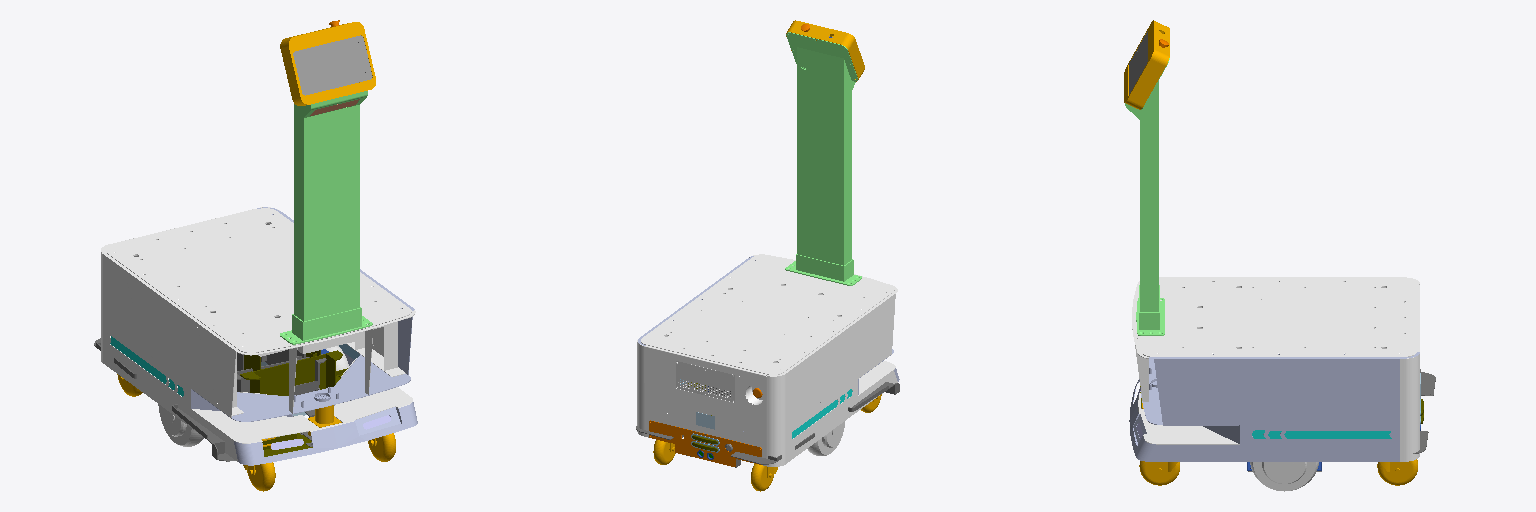
--- What the picture shows (computed from the rendered views, not written in the file) ---
3 views of the same robot in one strip: view 1: azimuth 30°, elevation 25°; view 2: azimuth 150°, elevation 25°; view 3: azimuth 270°, elevation 25° (orthographic).
Model quadruped_robot with 2 links and 1 joints (1 fixed), rooted at world, posed all joints at 0.
Links seen in each view (by area): view 1: sujiaojian; view 2: sujiaojian; view 3: sujiaojian.
Link boxes in pixels (box(x1,y1,x2,y2)): sujiaojian: box(94, 20, 417, 491); sujiaojian: box(636, 20, 899, 491); sujiaojian: box(1124, 20, 1435, 491).
Bounding box of the posed robot: 0.5017 × 0.7599 × 1.14 m (x, y, z).
70 mesh visuals loaded from 50 distinct referenced files (48 binary STL); not drawn: 3 (reference not matched to a file when rendering).

URDF robot description (quadruped_robot):
<?xml version="1.0"?>
<robot name="quadruped_robot">
<link name="world"/>
<joint name="world_to_sujiaojian" type="fixed">
  <parent link="world"/>
  <child link="sujiaojian"/>
  <origin xyz="0 0 -0.4" rpy="0.349066 0.174533  0"/>
</joint>
<link name="sujiaojian">
<visual>
<origin xyz="0.075992826552716899458 -0.12304598517526418866 0.75838709638582291195" rpy="-0.3540148965055689434 -0.16390885824145529082 0.060234426101678575916" />
<geometry>
<mesh filename="package://quadruped_description/quadruped/sujiaojian.stl"/>
</geometry>
<material name="sujiaojian_material">
<color rgba="0.91764705882352937127 0.91764705882352937127 0.91764705882352937127 1.0"/>
</material>
</visual>
<collision>
<origin xyz="0.075992826552716899458 -0.12304598517526418866 0.75838709638582291195" rpy="-0.3540148965055689434 -0.16390885824145529082 0.060234426101678575916" />
<geometry>
<mesh filename="package://quadruped_description/quadruped/sujiaojian.stl"/>
</geometry>
</collision>
<visual>
<origin xyz="0.11089667216888310364 -0.28192709194884885138 0.60556158409526428255" rpy="-1.7453292519943293115 0.34906585039886639521 1.570796326794896336" />
<geometry>
<mesh filename="package://quadruped_description/quadruped/_800.stl"/>
</geometry>
<material name="_800_material">
<color rgba="0.79215686274509800047 0.81960784313725487671 0.93333333333333334814 1.0"/>
</material>
</visual>
<collision>
<origin xyz="0.11089667216888310364 -0.28192709194884885138 0.60556158409526428255" rpy="-1.7453292519943293115 0.34906585039886639521 1.570796326794896336" />
<geometry>
<mesh filename="package://quadruped_description/quadruped/_800.stl"/>
</geometry>
</collision>
<visual>
<origin xyz="0.11089667216888310364 -0.28192709194884885138 0.60556158409526428255" rpy="-1.7453292519943293115 0.34906585039886639521 1.570796326794896336" />
<geometry>
<mesh filename="package://quadruped_description/quadruped/_1900.stl"/>
</geometry>
<material name="_1900_material">
<color rgba="1 1 1 1.0"/>
</material>
</visual>
<collision>
<origin xyz="0.11089667216888310364 -0.28192709194884885138 0.60556158409526428255" rpy="-1.7453292519943293115 0.34906585039886639521 1.570796326794896336" />
<geometry>
<mesh filename="package://quadruped_description/quadruped/_1900.stl"/>
</geometry>
</collision>
<visual>
<origin xyz="0.045475282385517123984 -0.28587248451122720949 0.59472170711924576825" rpy="-1.7453292519943293115 0.34906585039886639521 1.570796326794896336" />
<geometry>
<mesh filename="package://quadruped_description/quadruped/_1200.stl"/>
</geometry>
<material name="_1200_material">
<color rgba="1 1 1 1.0"/>
</material>
</visual>
<collision>
<origin xyz="0.045475282385517123984 -0.28587248451122720949 0.59472170711924576825" rpy="-1.7453292519943293115 0.34906585039886639521 1.570796326794896336" />
<geometry>
<mesh filename="package://quadruped_description/quadruped/_1200.stl"/>
</geometry>
</collision>
<visual>
<origin xyz="0.11089667216888310364 -0.28192709194884885138 0.60556158409526428255" rpy="-1.7453292519943293115 0.34906585039886639521 1.570796326794896336" />
<geometry>
<mesh filename="package://quadruped_description/quadruped/_2300.stl"/>
</geometry>
<material name="_2300_material">
<color rgba="1 1 1 1.0"/>
</material>
</visual>
<collision>
<origin xyz="0.11089667216888310364 -0.28192709194884885138 0.60556158409526428255" rpy="-1.7453292519943293115 0.34906585039886639521 1.570796326794896336" />
<geometry>
<mesh filename="package://quadruped_description/quadruped/_2300.stl"/>
</geometry>
</collision>
<visual>
<origin xyz="0.11089667216888161871 0.029299104055440446798 0.49228451262579309144" rpy="-1.3962634015954649147 -0.34906585039891668831 -1.5707963267948938935" />
<geometry>
<mesh filename="package://quadruped_description/quadruped/_900.stl"/>
</geometry>
<material name="_900_material">
<color rgba="1 1 1 1.0"/>
</material>
</visual>
<collision>
<origin xyz="0.11089667216888161871 0.029299104055440446798 0.49228451262579309144" rpy="-1.3962634015954649147 -0.34906585039891668831 -1.5707963267948938935" />
<geometry>
<mesh filename="package://quadruped_description/quadruped/_900.stl"/>
</geometry>
</collision>
<visual>
<origin xyz="0.11089667216888310364 -0.28192709194884885138 0.60556158409526428255" rpy="-1.7453292519943293115 0.34906585039886639521 1.570796326794896336" />
<geometry>
<mesh filename="package://quadruped_description/quadruped/_1400.stl"/>
</geometry>
<material name="_1400_material">
<color rgba="1 1 1 1.0"/>
</material>
</visual>
<collision>
<origin xyz="0.11089667216888310364 -0.28192709194884885138 0.60556158409526428255" rpy="-1.7453292519943293115 0.34906585039886639521 1.570796326794896336" />
<geometry>
<mesh filename="package://quadruped_description/quadruped/_1400.stl"/>
</geometry>
</collision>
<visual>
<origin xyz="0.11089667216888310364 -0.28192709194884885138 0.60556158409526428255" rpy="-1.7453292519943293115 0.34906585039886639521 1.570796326794896336" />
<geometry>
<mesh filename="package://quadruped_description/quadruped/_200.stl"/>
</geometry>
<material name="_200_material">
<color rgba="0.79215686274509800047 0.81960784313725487671 0.93333333333333334814 1.0"/>
</material>
</visual>
<collision>
<origin xyz="0.11089667216888310364 -0.28192709194884885138 0.60556158409526428255" rpy="-1.7453292519943293115 0.34906585039886639521 1.570796326794896336" />
<geometry>
<mesh filename="package://quadruped_description/quadruped/_200.stl"/>
</geometry>
</collision>
<visual>
<origin xyz="0.11089667216888310364 -0.28192709194884885138 0.60556158409526428255" rpy="-1.7453292519943293115 0.34906585039886639521 1.570796326794896336" />
<geometry>
<mesh filename="package://quadruped_description/quadruped/_500.stl"/>
</geometry>
<material name="_500_material">
<color rgba="1 1 1 1.0"/>
</material>
</visual>
<collision>
<origin xyz="0.11089667216888310364 -0.28192709194884885138 0.60556158409526428255" rpy="-1.7453292519943293115 0.34906585039886639521 1.570796326794896336" />
<geometry>
<mesh filename="package://quadruped_description/quadruped/500.stl"/>
</geometry>
</collision>
<visual>
<origin xyz="0.11089667216888310364 -0.28192709194884885138 0.60556158409526428255" rpy="-1.7453292519943293115 0.34906585039886639521 1.570796326794896336" />
<geometry>
<mesh filename="package://quadruped_description/quadruped/_400.stl"/>
</geometry>
<material name="_400_material">
<color rgba="0.79215686274509800047 0.81960784313725487671 0.93333333333333334814 1.0"/>
</material>
</visual>
<collision>
<origin xyz="0.11089667216888310364 -0.28192709194884885138 0.60556158409526428255" rpy="-1.7453292519943293115 0.34906585039886639521 1.570796326794896336" />
<geometry>
<mesh filename="package://quadruped_description/quadruped/_400.stl"/>
</geometry>
</collision>
<visual>
<origin xyz="0.11089667216888310364 -0.28192709194884885138 0.60556158409526428255" rpy="-1.7453292519943293115 0.34906585039886639521 1.570796326794896336" />
<geometry>
<mesh filename="package://quadruped_description/quadruped/_100.stl"/>
</geometry>
<material name="_100_material">
<color rgba="1 1 1 1.0"/>
</material>
</visual>
<collision>
<origin xyz="0.11089667216888310364 -0.28192709194884885138 0.60556158409526428255" rpy="-1.7453292519943293115 0.34906585039886639521 1.570796326794896336" />
<geometry>
<mesh filename="package://quadruped_description/quadruped/_100.stl"/>
</geometry>
</collision>
<visual>
<origin xyz="0.11089667216888310364 -0.28192709194884885138 0.60556158409526428255" rpy="-1.7453292519943293115 0.34906585039886639521 1.570796326794896336" />
<geometry>
<mesh filename="package://quadruped_description/quadruped/_900.stl"/>
</geometry>
<material name="_900_material">
<color rgba="1 1 1 1.0"/>
</material>
</visual>
<collision>
<origin xyz="0.11089667216888310364 -0.28192709194884885138 0.60556158409526428255" rpy="-1.7453292519943293115 0.34906585039886639521 1.570796326794896336" />
<geometry>
<mesh filename="package://quadruped_description/quadruped/_900.stl"/>
</geometry>
</collision>
<visual>
<origin xyz="0.11089667216888310364 -0.28192709194884885138 0.60556158409526428255" rpy="-1.7453292519943293115 0.34906585039886639521 1.570796326794896336" />
<geometry>
<mesh filename="package://quadruped_description/quadruped/_700.stl"/>
</geometry>
<material name="_1700_material">
<color rgba="0.79215686274509800047 0.81960784313725487671 0.93333333333333334814 1.0"/>
</material>
</visual>
<collision>
<origin xyz="0.11089667216888310364 -0.28192709194884885138 0.60556158409526428255" rpy="-1.7453292519943293115 0.34906585039886639521 1.570796326794896336" />
<geometry>
<mesh filename="package://quadruped_description/quadruped/_1700.stl"/>
</geometry>
</collision>
<visual>
<origin xyz="0.11089667216888310364 -0.28192709194884885138 0.60556158409526428255" rpy="-1.7453292519943293115 0.34906585039886639521 1.570796326794896336" />
<geometry>
<mesh filename="package://quadruped_description/quadruped/_1700.stl"/>
</geometry>
<material name="_1700_material">
<color rgba="0.79215686274509800047 0.81960784313725487671 0.93333333333333334814 1.0"/>
</material>
</visual>
<collision>
<origin xyz="0.11089667216888310364 -0.28192709194884885138 0.60556158409526428255" rpy="-1.7453292519943293115 0.34906585039886639521 1.570796326794896336" />
<geometry>
<mesh filename="package://quadruped_description/quadruped/_1700.stl"/>
</geometry>
</collision>
<visual>
<origin xyz="0.11089667216888310364 -0.28192709194884885138 0.60556158409526428255" rpy="-1.7453292519943293115 0.34906585039886639521 1.570796326794896336" />
<geometry>
<mesh filename="package://quadruped_description/quadruped/_2400.stl"/>
</geometry>
<material name="_2400_material">
<color rgba="1 1 1 1.0"/>
</material>
</visual>
<collision>
<origin xyz="0.11089667216888310364 -0.28192709194884885138 0.60556158409526428255" rpy="-1.7453292519943293115 0.34906585039886639521 1.570796326794896336" />
<geometry>
<mesh filename="package://quadruped_description/quadruped/_2400.stl"/>
</geometry>
</collision>
<visual>
<origin xyz="0.11089667216888310364 -0.28192709194884885138 0.60556158409526428255" rpy="-1.7453292519943293115 0.34906585039886639521 1.570796326794896336" />
<geometry>
<mesh filename="package://quadruped_description/quadruped/_600.stl"/>
</geometry>
<material name="_600_material">
<color rgba="1 1 1 1.0"/>
</material>
</visual>
<collision>
<origin xyz="0.11089667216888310364 -0.28192709194884885138 0.60556158409526428255" rpy="-1.7453292519943293115 0.34906585039886639521 1.570796326794896336" />
<geometry>
<mesh filename="package://quadruped_description/quadruped/_600.stl"/>
</geometry>
</collision>
<visual>
<origin xyz="0.11089667216888310364 -0.28192709194884885138 0.60556158409526428255" rpy="-1.7453292519943293115 0.34906585039886639521 1.570796326794896336" />
<geometry>
<mesh filename="package://quadruped_description/quadruped/_1600.stl"/>
</geometry>
<material name="_1600_material">
<color rgba="1 1 1 1.0"/>
</material>
</visual>
<collision>
<origin xyz="0.11089667216888310364 -0.28192709194884885138 0.60556158409526428255" rpy="-1.7453292519943293115 0.34906585039886639521 1.570796326794896336" />
<geometry>
<mesh filename="package://quadruped_description/quadruped/_1600.stl"/>
</geometry>
</collision>
<visual>
<origin xyz="0.11089667216888282608 -0.59315328795314092858 0.71883865556472748004" rpy="-1.7453292519943293115 0.34906585039886639521 1.570796326794896336" />
<geometry>
<mesh filename="package://quadruped_description/quadruped/_900.stl"/>
</geometry>
<material name="_900_material">
<color rgba="1 1 1 1.0"/>
</material>
</visual>
<collision>
<origin xyz="0.11089667216888282608 -0.59315328795314092858 0.71883865556472748004" rpy="-1.7453292519943293115 0.34906585039886639521 1.570796326794896336" />
<geometry>
<mesh filename="package://quadruped_description/quadruped/_900.stl"/>
</geometry>
</collision>
<visual>
<origin xyz="0.11089667216888310364 -0.28192709194884885138 0.60556158409526428255" rpy="-1.7453292519943293115 0.34906585039886639521 1.570796326794896336" />
<geometry>
<mesh filename="package://quadruped_description/quadruped/_1300.stl"/>
</geometry>
<material name="_1300_material">
<color rgba="0.79215686274509800047 0.81960784313725487671 0.93333333333333334814 1.0"/>
</material>
</visual>
<collision>
<origin xyz="0.11089667216888310364 -0.28192709194884885138 0.60556158409526428255" rpy="-1.7453292519943293115 0.34906585039886639521 1.570796326794896336" />
<geometry>
<mesh filename="package://quadruped_description/quadruped/_1300.stl"/>
</geometry>
</collision>
<visual>
<origin xyz="0.11089667216888310364 -0.28192709194884885138 0.60556158409526428255" rpy="-1.3962634015954424882 -0.34906585039902643386 -1.5707963267949269781" />
<geometry>
<mesh filename="package://quadruped_description/quadruped/_900.stl"/>
</geometry>
<material name="_900_material">
<color rgba="1 1 1 1.0"/>
</material>
</visual>
<collision>
<origin xyz="0.11089667216888310364 -0.28192709194884885138 0.60556158409526428255" rpy="-1.3962634015954424882 -0.34906585039902643386 -1.5707963267949269781" />
<geometry>
<mesh filename="package://quadruped_description/quadruped/_900.stl"/>
</geometry>
</collision>
<visual>
<origin xyz="0.11089667216888310364 -0.28192709194884885138 0.60556158409526428255" rpy="-1.7453292519943293115 0.34906585039886639521 1.570796326794896336" />
<geometry>
<mesh filename="package://quadruped_description/quadruped/_300.stl"/>
</geometry>
<material name="_300_material">
<color rgba="1 1 1 1.0"/>
</material>
</visual>
<collision>
<origin xyz="0.11089667216888310364 -0.28192709194884885138 0.60556158409526428255" rpy="-1.7453292519943293115 0.34906585039886639521 1.570796326794896336" />
<geometry>
<mesh filename="package://quadruped_description/quadruped/_300.stl"/>
</geometry>
</collision>
<visual>
<origin xyz="0.11089667216888310364 -0.28192709194884885138 0.60556158409526428255" rpy="-1.7453292519943293115 0.34906585039886639521 1.570796326794896336" />
<geometry>
<mesh filename="package://quadruped_description/quadruped/_2100.stl"/>
</geometry>
<material name="_2100_material">
<color rgba="1 1 1 1.0"/>
</material>
</visual>
<collision>
<origin xyz="0.11089667216888310364 -0.28192709194884885138 0.60556158409526428255" rpy="-1.7453292519943293115 0.34906585039886639521 1.570796326794896336" />
<geometry>
<mesh filename="package://quadruped_description/quadruped/_2100.stl"/>
</geometry>
</collision>
<visual>
<origin xyz="0.11089667216888310364 -0.28192709194884885138 0.60556158409526428255" rpy="-1.7453292519943293115 0.34906585039886639521 1.570796326794896336" />
<geometry>
<mesh filename="package://quadruped_description/quadruped/_1100.stl"/>
</geometry>
<material name="_1100_material">
<color rgba="0.79215686274509800047 0.81960784313725487671 0.93333333333333334814 1.0"/>
</material>
</visual>
<collision>
<origin xyz="0.11089667216888310364 -0.28192709194884885138 0.60556158409526428255" rpy="-1.7453292519943293115 0.34906585039886639521 1.570796326794896336" />
<geometry>
<mesh filename="package://quadruped_description/quadruped/_1100.stl"/>
</geometry>
</collision>
<visual>
<origin xyz="0.30903999207516463787 -0.26997758761619961021 0.63839257742294075459" rpy="-1.7453292519943293115 0.34906585039886639521 1.570796326794896336" />
<geometry>
<mesh filename="package://quadruped_description/quadruped/_2300.stl"/>
</geometry>
<material name="_2300_material">
<color rgba="1 1 1 1.0"/>
</material>
</visual>
<collision>
<origin xyz="0.30903999207516463787 -0.26997758761619961021 0.63839257742294075459" rpy="-1.7453292519943293115 0.34906585039886639521 1.570796326794896336" />
<geometry>
<mesh filename="package://quadruped_description/quadruped/_2300.stl"/>
</geometry>
</collision>
<visual>
<origin xyz="0.085630861665724589127 -0.2329191834637290015 0.74020969889527887808" rpy="1.3962633994746422861 0.34906588344491312759 1.5707963205940285167" />
<geometry>
<mesh filename="package://quadruped_description/quadruped/_400.stl"/>
</geometry>
<material name="_400_material">
<color rgba="0.79215686274509800047 0.81960784313725487671 0.93333333333333334814 1.0"/>
</material>
</visual>
<collision>
<origin xyz="0.085630861665724589127 -0.2329191834637290015 0.74020969889527887808" rpy="1.3962633994746422861 0.34906588344491312759 1.5707963205940285167" />
<geometry>
<mesh filename="package://quadruped_description/quadruped/_400.stl"/>
</geometry>
</collision>
<visual>
<origin xyz="0.11089667216888310364 -0.28192709194884885138 0.60556158409526428255" rpy="-1.7453292519943293115 0.34906585039886639521 1.570796326794896336" />
<geometry>
<mesh filename="package://quadruped_description/quadruped/_1400.stl"/>
</geometry>
<material name="_1400_material">
<color rgba="1 1 1 1.0"/>
</material>
</visual>
<collision>
<origin xyz="0.11089667216888310364 -0.28192709194884885138 0.60556158409526428255" rpy="-1.7453292519943293115 0.34906585039886639521 1.570796326794896336" />
<geometry>
<mesh filename="package://quadruped_description/quadruped/_1400.stl"/>
</geometry>
</collision>
<visual>
<origin xyz="0.096981483409516677785 -0.44215412215801386253 0.74723110732536091039" rpy="-1.9248112233004655014 -0.16390885824145529082 0.060234426101678575916" />
<geometry>
<mesh filename="package://quadruped_description/quadruped/0003.stl"/>
</geometry>
<material name="0003_material">
<color rgba="0.5999999999999999778 1 0.5999999999999999778 1.0"/>
</material>
</visual>
<collision>
<origin xyz="0.096981483409516677785 -0.44215412215801386253 0.74723110732536091039" rpy="-1.9248112233004655014 -0.16390885824145529082 0.060234426101678575916" />
<geometry>
<mesh filename="package://quadruped_description/quadruped/0003.stl"/>
</geometry>
</collision>
<visual>
<origin xyz="0.09637532469075402175 -0.45348239958571684438 0.75472334846626376592" rpy="-1.9248112233004657234 -0.16390885824145556837 0.060234426101679013066" />
<geometry>
<mesh filename="package://quadruped_description/quadruped/0004.stl"/>
</geometry>
<material name="0004_material">
<color rgba="0.98039215686274505668 0.71372549019607844922 0.0039215686274509803377 1.0"/>
</material>
</visual>
<collision>
<origin xyz="0.09637532469075402175 -0.45348239958571684438 0.75472334846626376592" rpy="-1.9248112233004657234 -0.16390885824145556837 0.060234426101679013066" />
<geometry>
<mesh filename="package://quadruped_description/quadruped/0004.stl"/>
</geometry>
</collision>
<visual>
<origin xyz="-0.02939812039994296744 -0.18926208145290759899 1.6627636819833313542" rpy="-0.23928140629306637877 0.81138768796848992348 1.4559160800623676124" />
<geometry>
<mesh filename="package://quadruped_description/quadruped/0007.stl"/>
</geometry>
<material name="0007_material">
<color rgba="0.97254901960784312376 0.52941176470588235947 0.0039215686274509803377 1.0"/>
</material>
</visual>
<collision>
<origin xyz="-0.02939812039994296744 -0.18926208145290759899 1.6627636819833313542" rpy="-0.23928140629306637877 0.81138768796848992348 1.4559160800623676124" />
<geometry>
<mesh filename="package://quadruped_description/quadruped/0007.stl"/>
</geometry>
</collision>
<visual>
<origin xyz="0.1 -0.1 0.55" rpy="-0.349066 -0.174533 0" />
<geometry>
<mesh filename="package://quadruped_description/quadruped/00.stl"/>
</geometry>
<material name="00_material">
<color rgba="0.49803921568627451677 0.49803921568627451677 0.49803921568627451677 1.0"/>
</material>
</visual>
<collision>
<origin xyz="0.1 -0.1 0.55" rpy="-0.349066 -0.174533 0" />
<geometry>
<mesh filename="package://quadruped_description/quadruped/00.stl"/>
</geometry>
</collision>
<visual>
<origin xyz="-0.089478118444206500293 -0.11647346825627161171 1.7537349107029751583" rpy="0.43138326689187928009 -0.16390885824145556837 0.060234426101679013066" />
<geometry>
<mesh filename="package://quadruped_description/quadruped/0008.stl"/>
</geometry>
<material name="0008_material">
<color rgba="0.87058823529411766273 0.5999999999999999778 0.47058823529411764053 1.0"/>
</material>
</visual>
<collision>
<origin xyz="-0.089478118444206500293 -0.11647346825627161171 1.7537349107029751583" rpy="0.43138326689187928009 -0.16390885824145556837 0.060234426101679013066" />
<geometry>
<mesh filename="package://quadruped_description/quadruped/0008.stl"/>
</geometry>
</collision>
<visual>
<origin xyz="0.11089667216888310364 -0.28192709194884885138 0.60556158409526428255" rpy="-1.7453292519943293115 0.34906585039886639521 1.570796326794896336" />
<geometry>
<mesh filename="package://quadruped_description/quadruped/100.stl"/>
</geometry>
<material name="100_material">
<color rgba="0.79215686274509800047 0.81960784313725487671 0.93333333333333334814 1.0"/>
</material>
</visual>
<collision>
<origin xyz="0.11089667216888310364 -0.28192709194884885138 0.60556158409526428255" rpy="-1.7453292519943293115 0.34906585039886639521 1.570796326794896336" />
<geometry>
<mesh filename="package://quadruped_description/quadruped/100.stl"/>
</geometry>
</collision>
<visual>
<origin xyz="0.11089667216888310364 -0.28192709194884885138 0.60556158409526428255" rpy="-1.7453292519943293115 0.34906585039886639521 1.570796326794896336" />
<geometry>
<mesh filename="package://quadruped_description/quadruped/100.stl"/>
</geometry>
<material name="100_material">
<color rgba="1 1 1 1.0"/>
</material>
</visual>
<collision>
<origin xyz="0.11089667216888310364 -0.28192709194884885138 0.60556158409526428255" rpy="-1.7453292519943293115 0.34906585039886639521 1.570796326794896336" />
<geometry>
<mesh filename="package://quadruped_description/quadruped/100.stl"/>
</geometry>
</collision>
<visual>
<origin xyz="-0.058142295406142380232 -0.27033671546359172577 1.6095855138982304577" rpy="-2.3157847058925060679 0.16390885824161358086 -3.0813582274879407485" />
<geometry>
<mesh filename="package://quadruped_description/quadruped/scr70_pannl_20190126.stl"/>
</geometry>
<material name="scr70_pannl_20190126_material">
<color rgba="0.2313725490196078538 0.38039215686274507888 0.7058823529411765163 1.0"/>
</material>
</visual>
<collision>
<origin xyz="-0.058142295406142380232 -0.27033671546359172577 1.6095855138982304577" rpy="-2.3157847058925060679 0.16390885824161358086 -3.0813582274879407485" />
<geometry>
<mesh filename="package://quadruped_description/quadruped/scr70_pannl_20190126.stl"/>
</geometry>
</collision>
<visual>
<origin xyz="-0.056234701095091960132 -0.27371247059657916045 1.6103324151311506629" rpy="0.82580794769728715909 0.16390885824161358086 -3.0813582274879407485" />
<geometry>
<mesh filename="package://quadruped_description/quadruped/scr70_tp_20190126.stl"/>
</geometry>
<material name="scr70_tp_20190126_material">
<color rgba="0.64705882352941179736 0.64705882352941179736 0.64705882352941179736 1.0"/>
</material>
</visual>
<collision>
<origin xyz="-0.056234701095091960132 -0.27371247059657916045 1.6103324151311506629" rpy="0.82580794769728715909 0.16390885824161358086 -3.0813582274879407485" />
<geometry>
<mesh filename="package://quadruped_description/quadruped/scr70_tp_20190126.stl"/>
</geometry>
</collision>
<visual>
<origin xyz="0.10853584142529822121 0.052311788887373616985 0.49820477831935899848" rpy="0.3540439425639974047 0.1643833160667123594 -3.0811804778682958528" />
<geometry>
<mesh filename="package://quadruped_description/quadruped/_-b0002_1_1.stl"/>
</geometry>
<material name="_-b0002_1_1_material">
<color rgba="0.97254901960784312376 0.52941176470588235947 0.0039215686274509803377 1.0"/>
</material>
</visual>
<collision>
<origin xyz="0.10853584142529822121 0.052311788887373616985 0.49820477831935899848" rpy="0.3540439425639974047 0.1643833160667123594 -3.0811804778682958528" />
<geometry>
<mesh filename="package://quadruped_description/quadruped/_-b0002_1_1.stl"/>
</geometry>
</collision>
<visual>
<origin xyz="0.56013684055944312767 -0.094000863235888076908 0.64676643898088770346" rpy="-0.3540148965055689434 -0.16390885824145529082 0.060234426101678575916" />
<geometry>
<mesh filename="package://quadruped_description/quadruped/001_7_1.stl"/>
</geometry>
<material name="001_7_1_material">
<color rgba="0.1372549019607843257 0.93333333333333334814 0.89803921568627453897 1.0"/>
</material>
</visual>
<collision>
<origin xyz="0.56013684055944312767 -0.094000863235888076908 0.64676643898088770346" rpy="-0.3540148965055689434 -0.16390885824145529082 0.060234426101678575916" />
<geometry>
<mesh filename="package://quadruped_description/quadruped/001_7_1.stl"/>
</geometry>
</collision>
<visual>
<origin xyz="0.10658139474192325491 -0.12444109578807507899 0.57336590280137689213" rpy="-0.3540148965055689434 -0.16390885824145529082 0.060234426101678575916" />
<geometry>
<mesh filename="package://quadruped_description/quadruped/00.stl"/>
</geometry>
<material name="00_material">
<color rgba="0.4000000000000000222 0.4000000000000000222 0 1.0"/>
</material>
</visual>
<collision>
<origin xyz="0.10658139474192325491 -0.12444109578807507899 0.57336590280137689213" rpy="-0.3540148965055689434 -0.16390885824145529082 0.060234426101678575916" />
<geometry>
<mesh filename="package://quadruped_description/quadruped/00.stl"/>
</geometry>
</collision>
<visual>
<origin xyz="0.10161035075695894203 -0.12165339413611264696 0.57079173474174904612" rpy="-0.3540148965055689434 -0.16390885824145529082 0.060234426101678575916" />
<geometry>
<mesh filename="package://quadruped_description/quadruped/001_7_1.stl"/>
</geometry>
<material name="001_7_1_material">
<color rgba="0.1372549019607843257 0.93333333333333334814 0.89803921568627453897 1.0"/>
</material>
</visual>
<collision>
<origin xyz="0.10161035075695894203 -0.12165339413611264696 0.57079173474174904612" rpy="-0.3540148965055689434 -0.16390885824145529082 0.060234426101678575916" />
<geometry>
<mesh filename="package://quadruped_description/quadruped/001_7_1.stl"/>
</geometry>
</collision>
<visual>
<origin xyz="0.094396878395840752574 0.080601281396468785201 0.57256714513574125114" rpy="-0.3540439425624830605 -0.1643833160667123594 0.060412175721497263226" />
<geometry>
<mesh filename="package://quadruped_description/quadruped/60x40000_7_1.stl"/>
</geometry>
<material name="60x40000_7_1_material">
<color rgba="0.76862745098039220171 0.88627450980392152857 0.95294117647058818044 1.0"/>
</material>
</visual>
<collision>
<origin xyz="0.094396878395840752574 0.080601281396468785201 0.57256714513574125114" rpy="-0.3540439425624830605 -0.1643833160667123594 0.060412175721497263226" />
<geometry>
<mesh filename="package://quadruped_description/quadruped/60x40000_7_1.stl"/>
</geometry>
</collision>
<visual>
<origin xyz="0.088980138665294056244 -0.088435484990416049489 0.66311835354214221372" rpy="-2.7854500210908068603 0.16390885824145534633 -3.0813582274881148315" />
<geometry>
<mesh filename="package://quadruped_description/quadruped/0012_13_1.stl"/>
</geometry>
<material name="0012_13_1_material">
<color rgba="0.61568627450980395466 0.81176470588235294379 0.92941176470588238168 1.0"/>
</material>
</visual>
<collision>
<origin xyz="0.088980138665294056244 -0.088435484990416049489 0.66311835354214221372" rpy="-2.7854500210908068603 0.16390885824145534633 -3.0813582274881148315" />
<geometry>
<mesh filename="package://quadruped_description/quadruped/0012_13_1.stl"/>
</geometry>
</collision>
<visual>
<origin xyz="-0.078697008374963406396 0.072826794099763503265 0.66508909822655848387" rpy="-1.9248112233004655014 -0.16390885824145529082 0.060234426101678575916" />
<geometry>
<mesh filename="package://quadruped_description/quadruped/0009_8_1.stl"/>
</geometry>
<material name="0009_8_1_material">
<color rgba="0.97254901960784312376 0.52941176470588235947 0.0039215686274509803377 1.0"/>
</material>
</visual>
<collision>
<origin xyz="-0.078697008374963406396 0.072826794099763503265 0.66508909822655848387" rpy="-1.9248112233004655014 -0.16390885824145529082 0.060234426101678575916" />
<geometry>
<mesh filename="package://quadruped_description/quadruped/0009_8_1.stl"/>
</geometry>
</collision>
<visual>
<origin xyz="0.24958666740915066984 -0.27501164679101652855 0.56371986169272858547" rpy="1.3960366205390526417 0.34895589366030455025 1.5701331631936725763" />
<geometry>
<mesh filename="package://quadruped_description/quadruped/0020_1_1.stl"/>
</geometry>
<material name="0020_1_1_material">
<color rgba="0.64705882352941179736 0.64705882352941179736 0.64705882352941179736 1.0"/>
</material>
</visual>
<collision>
<origin xyz="0.24958666740915066984 -0.27501164679101652855 0.56371986169272858547" rpy="1.3960366205390526417 0.34895589366030455025 1.5701331631936725763" />
<geometry>
<mesh filename="package://quadruped_description/quadruped/0020_1_1.stl"/>
</geometry>
</collision>
<visual>
<origin xyz="0.26579813974741894889 -0.22474257071560457821 0.70190979676453457703" rpy="1.2168796706221038928 -0.16412820266640457123 0.059632773388374235579" />
<geometry>
<mesh filename="package://quadruped_description/quadruped/0017_1_1.stl"/>
</geometry>
<material name="0017_1_1_material">
<color rgba="0.2313725490196078538 0.38039215686274507888 0.7058823529411765163 1.0"/>
</material>
</visual>
<collision>
<origin xyz="0.26579813974741894889 -0.22474257071560457821 0.70190979676453457703" rpy="1.2168796706221038928 -0.16412820266640457123 0.059632773388374235579" />
<geometry>
<mesh filename="package://quadruped_description/quadruped/0017_1_1.stl"/>
</geometry>
</collision>
<visual>
<origin xyz="0.30025317783037780428 -0.25515740511411283409 0.61840956741280694864" rpy="-2.7876759974170002288 0.16412820266640457123 -3.0819598802014191996" />
<geometry>
<mesh filename="package://quadruped_description/quadruped/amps-605__1_1.stl"/>
</geometry>
<material name="amps-605__1_1_material">
<color rgba="0.91764705882352937127 0.91764705882352937127 0.91764705882352937127 1.0"/>
</material>
</visual>
<collision>
<origin xyz="0.30025317783037780428 -0.25515740511411283409 0.61840956741280694864" rpy="-2.7876759974170002288 0.16412820266640457123 -3.0819598802014191996" />
<geometry>
<mesh filename="package://quadruped_description/quadruped/amps-605__1_1.stl"/>
</geometry>
</collision>
<visual>
<origin xyz="0.10370081852484742957 -0.12369140942496795188 0.56625349725621243469" rpy="-0.35019945964451998366 -0.13333278906306805789 0.048838216442983292676" />
<geometry>
<mesh filename="package://quadruped_description/quadruped/0012_13_1.stl"/>
</geometry>
<material name="0012_13_1_material">
<color rgba="0.61568627450980395466 0.81176470588235294379 0.92941176470588238168 1.0"/>
</material>
</visual>
<collision>
<origin xyz="0.10370081852484742957 -0.12369140942496795188 0.56625349725621243469" rpy="-0.35019945964451998366 -0.13333278906306805789 0.048838216442983292676" />
<geometry>
<mesh filename="package://quadruped_description/quadruped/0012_13_1.stl"/>
</geometry>
</collision>
<visual>
<origin xyz="-0.072536938278620177734 -0.24515015223729780258 0.64585125415827504547" rpy="1.9247938702671132383 0.16394762947951049825 -3.0814645605829178443" />
<geometry>
<mesh filename="package://quadruped_description/quadruped/0017_1_1.stl"/>
</geometry>
<material name="0017_1_1_material">
<color rgba="0.2313725490196078538 0.38039215686274507888 0.7058823529411765163 1.0"/>
</material>
</visual>
<collision>
<origin xyz="-0.072536938278620177734 -0.24515015223729780258 0.64585125415827504547" rpy="1.9247938702671132383 0.16394762947951049825 -3.0814645605829178443" />
<geometry>
<mesh filename="package://quadruped_description/quadruped/0017_1_1.stl"/>
</geometry>
</collision>
<visual>
<origin xyz="-0.0070093755555239445343 -0.29051880068086455289 0.52121548777488613258" rpy="1.7453693396478007216 -0.34904642689563614155 -1.5709135383799255337" />
<geometry>
<mesh filename="package://quadruped_description/quadruped/0020_1_1.stl"/>
</geometry>
<material name="0020_1_1_material">
<color rgba="0.64705882352941179736 0.64705882352941179736 0.64705882352941179736 1.0"/>
</material>
</visual>
<collision>
<origin xyz="-0.0070093755555239445343 -0.29051880068086455289 0.52121548777488613258" rpy="1.7453693396478007216 -0.34904642689563614155 -1.5709135383799255337" />
<geometry>
<mesh filename="package://quadruped_description/quadruped/0020_1_1.stl"/>
</geometry>
</collision>
<visual>
<origin xyz="-0.074519775867995963203 -0.27773047960867636164 0.55630187824729560031" rpy="2.7875951101175768798 -0.16394762947951049825 0.060128093006875528437" />
<geometry>
<mesh filename="package://quadruped_description/quadruped/amps-605__1_1.stl"/>
</geometry>
<material name="amps-605__1_1_material">
<color rgba="0.91764705882352937127 0.91764705882352937127 0.91764705882352937127 1.0"/>
</material>
</visual>
<collision>
<origin xyz="-0.074519775867995963203 -0.27773047960867636164 0.55630187824729560031" rpy="2.7875951101175768798 -0.16394762947951049825 0.060128093006875528437" />
<geometry>
<mesh filename="package://quadruped_description/quadruped/amps-605__1_1.stl"/>
</geometry>
</collision>
<visual>
<origin xyz="0.10658139474192325491 -0.12444109578807507899 0.57336590280137689213" rpy="-0.3540148965055689434 -0.16390885824145529082 0.060234426101678575916" />
<geometry>
<mesh filename="package://quadruped_description/quadruped/00.stl"/>
</geometry>
<material name="00_material">
<color rgba="0.4000000000000000222 0.4000000000000000222 0 1.0"/>
</material>
</visual>
<collision>
<origin xyz="0.10658139474192325491 -0.12444109578807507899 0.57336590280137689213" rpy="-0.3540148965055689434 -0.16390885824145529082 0.060234426101678575916" />
<geometry>
<mesh filename="package://quadruped_description/quadruped/00.stl"/>
</geometry>
</collision>
<visual>
<origin xyz="-0.11665812337528053133 -0.60450249867656791203 0.679750593413900428" rpy="-0.3540148965055689434 -0.16390885824145529082 0.060234426101678575916" />
<geometry>
<mesh filename="package://quadruped_description/quadruped/50ah0001.stl"/>
</geometry>
<material name="50ah0001_material">
<color rgba="0.76862745098039220171 0.88627450980392152857 0.95294117647058818044 1.0"/>
</material>
</visual>
<collision>
<origin xyz="-0.11665812337528053133 -0.60450249867656791203 0.679750593413900428" rpy="-0.3540148965055689434 -0.16390885824145529082 0.060234426101678575916" />
<geometry>
<mesh filename="package://quadruped_description/quadruped/50ah0001.stl"/>
</geometry>
</collision>
<visual>
<origin xyz="0.223468040503322668 -0.57619898684694836888 0.7634179101899543074" rpy="-2.2519483422309303222 0.11401906413635001791 -2.9450903488627004911" />
<geometry>
<mesh filename="package://quadruped_description/quadruped/02_dabai_dc2_front_hsg.stl"/>
</geometry>
<material name="02_dabai_dc2_front_hsg_material">
<color rgba="0.82352941176470584317 0.82352941176470584317 1 1.0"/>
</material>
</visual>
<collision>
<origin xyz="0.223468040503322668 -0.57619898684694836888 0.7634179101899543074" rpy="-2.2519483422309303222 0.11401906413635001791 -2.9450903488627004911" />
<geometry>
<mesh filename="package://quadruped_description/quadruped/02_dabai_dc2_front_hsg.stl"/>
</geometry>
</collision>
<visual>
<origin xyz="0.223468040503322668 -0.57619898684694836888 0.7634179101899543074" rpy="-2.2519483422309303222 0.11401906413635001791 -2.9450903488627004911" />
<geometry>
<mesh filename="package://quadruped_description/quadruped/02_dabai_dc2_glass.stl"/>
</geometry>
<material name="02_dabai_dc2_glass_material">
<color rgba="0.82352941176470584317 0.82352941176470584317 1 1.0"/>
</material>
</visual>
<collision>
<origin xyz="0.223468040503322668 -0.57619898684694836888 0.7634179101899543074" rpy="-2.2519483422309303222 0.11401906413635001791 -2.9450903488627004911" />
<geometry>
<mesh filename="package://quadruped_description/quadruped/02_dabai_dc2_glass.stl"/>
</geometry>
</collision>
<visual>
<origin xyz="-0.010806632433599416832 -0.59038156226160609652 0.72461926956381428333" rpy="-2.2966926433235133054 0.21076516942417944378 3.0633664167776872844" />
<geometry>
<mesh filename="package://quadruped_description/quadruped/02_dabai_dc2_front_hsg.stl"/>
</geometry>
<material name="02_dabai_dc2_front_hsg_material">
<color rgba="0.82352941176470584317 0.82352941176470584317 1 1.0"/>
</material>
</visual>
<collision>
<origin xyz="-0.010806632433599416832 -0.59038156226160609652 0.72461926956381428333" rpy="-2.2966926433235133054 0.21076516942417944378 3.0633664167776872844" />
<geometry>
<mesh filename="package://quadruped_description/quadruped/02_dabai_dc2_front_hsg.stl"/>
</geometry>
</collision>
<visual>
<origin xyz="-0.010806632433599416832 -0.59038156226160609652 0.72461926956381428333" rpy="-2.2966926433235133054 0.21076516942417944378 3.0633664167776872844" />
<geometry>
<mesh filename="package://quadruped_description/quadruped/02_dabai_dc2_glass.stl"/>
</geometry>
<material name="02_dabai_dc2_glass_material">
<color rgba="0.82352941176470584317 0.82352941176470584317 1 1.0"/>
</material>
</visual>
<collision>
<origin xyz="-0.010806632433599416832 -0.59038156226160609652 0.72461926956381428333" rpy="-2.2966926433235133054 0.21076516942417944378 3.0633664167776872844" />
<geometry>
<mesh filename="package://quadruped_description/quadruped/02_dabai_dc2_glass.stl"/>
</geometry>
</collision>
<visual>
<origin xyz="0.10658139474192325491 -0.12444109578807507899 0.57336590280137689213" rpy="-0.3540148965055689434 -0.16390885824145529082 0.060234426101678575916" />
<geometry>
<mesh filename="package://quadruped_description/quadruped/00_40_6_1.stl"/>
</geometry>
<material name="00_40_6_1_material">
<color rgba="1 1 1 1.0"/>
</material>
</visual>
<collision>
<origin xyz="0.10658139474192325491 -0.12444109578807507899 0.57336590280137689213" rpy="-0.3540148965055689434 -0.16390885824145529082 0.060234426101678575916" />
<geometry>
<mesh filename="package://quadruped_description/quadruped/00_40_6_1.stl"/>
</geometry>
</collision>
<visual>
<origin xyz="-0.052539434611331925495 -0.51148027815975471988 0.69410404442029050021" rpy="-2.9669440555254142922 -0.34900978832855933387 -1.5711345576722868245" />
<geometry>
<mesh filename="package://quadruped_description/quadruped/40001_8_1.stl"/>
</geometry>
<material name="40001_8_1_material">
<color rgba="0.98039215686274505668 0.71372549019607844922 0.0039215686274509803377 1.0"/>
</material>
</visual>
<collision>
<origin xyz="-0.052539434611331925495 -0.51148027815975471988 0.69410404442029050021" rpy="-2.9669440555254142922 -0.34900978832855933387 -1.5711345576722868245" />
<geometry>
<mesh filename="package://quadruped_description/quadruped/40001_8_1.stl"/>
</geometry>
</collision>
<visual>
<origin xyz="0.031834881507964263303 0.038208902667800088981 0.50565352640451977084" rpy="0.3540148965055689434 0.16390885824145529082 -3.0813582274881148315" />
<geometry>
<mesh filename="package://quadruped_description/quadruped/0004_1_1.stl"/>
</geometry>
<material name="0004_1_1_material">
<color rgba="0.64705882352941179736 0.64705882352941179736 0.64705882352941179736 1.0"/>
</material>
</visual>
<collision>
<origin xyz="0.031834881507964263303 0.038208902667800088981 0.50565352640451977084" rpy="0.3540148965055689434 0.16390885824145529082 -3.0813582274881148315" />
<geometry>
<mesh filename="package://quadruped_description/quadruped/0004_1_1.stl"/>
</geometry>
</collision>
<visual>
<origin xyz="0.12727993146787930367 -0.18952057599156002521 0.47213201016924444264" rpy="-1.3962634015954638045 -0.34906585039886639521 -1.57079632679489678" />
<geometry>
<mesh filename="package://quadruped_description/quadruped/000_1_1.stl"/>
</geometry>
<material name="000_1_1_material">
<color rgba="0.61568627450980395466 0.81176470588235294379 0.92941176470588238168 1.0"/>
</material>
</visual>
<collision>
<origin xyz="0.12727993146787930367 -0.18952057599156002521 0.47213201016924444264" rpy="-1.3962634015954638045 -0.34906585039886639521 -1.57079632679489678" />
<geometry>
<mesh filename="package://quadruped_description/quadruped/000_1_1.stl"/>
</geometry>
</collision>
<visual>
<origin xyz="0.13110597964913481284 -0.19694193341551285981 0.45174199822523219972" rpy="-1.3962634015954638045 -0.34906585039886639521 -1.57079632679489678" />
<geometry>
<mesh filename="package://quadruped_description/quadruped/000_1_1.stl"/>
</geometry>
<material name="000_1_1_material">
<color rgba="0.61568627450980395466 0.81176470588235294379 0.92941176470588238168 1.0"/>
</material>
</visual>
<collision>
<origin xyz="0.13110597964913481284 -0.19694193341551285981 0.45174199822523219972" rpy="-1.3962634015954638045 -0.34906585039886639521 -1.57079632679489678" />
<geometry>
<mesh filename="package://quadruped_description/quadruped/000_1_1.stl"/>
</geometry>
</collision>
<visual>
<origin xyz="0.2625990463525746943 -0.49247510228331187188 0.74632033599358160725" rpy="-2.9669440555254142922 -0.34900978832855933387 -1.5711345576722868245" />
<geometry>
<mesh filename="package://quadruped_description/quadruped/40001_8_1.stl"/>
</geometry>
<material name="40001_8_1_material">
<color rgba="0.98039215686274505668 0.71372549019607844922 0.0039215686274509803377 1.0"/>
</material>
</visual>
<collision>
<origin xyz="0.2625990463525746943 -0.49247510228331187188 0.74632033599358160725" rpy="-2.9669440555254142922 -0.34900978832855933387 -1.5711345576722868245" />
<geometry>
<mesh filename="package://quadruped_description/quadruped/40001_8_1.stl"/>
</geometry>
</collision>
<visual>
<origin xyz="-0.052556669460986360498 -0.022499070569444890033 0.51612620573861078821" rpy="2.9670333878211971879 0.34905308835813919632 1.5707193107726846737" />
<geometry>
<mesh filename="package://quadruped_description/quadruped/40001_8_1.stl"/>
</geometry>
<material name="40001_8_1_material">
<color rgba="0.98039215686274505668 0.71372549019607844922 0.0039215686274509803377 1.0"/>
</material>
</visual>
<collision>
<origin xyz="-0.052556669460986360498 -0.022499070569444890033 0.51612620573861078821" rpy="2.9670333878211971879 0.34905308835813919632 1.5707193107726846737" />
<geometry>
<mesh filename="package://quadruped_description/quadruped/40001_8_1.stl"/>
</geometry>
</collision>
<visual>
<origin xyz="0.26257655689717357417 -0.017005636536309130108 0.57325938316463653788" rpy="2.9669440555254142922 0.34900978832855933387 1.5704580959175062915" />
<geometry>
<mesh filename="package://quadruped_description/quadruped/40001_8_1.stl"/>
</geometry>
<material name="40001_8_1_material">
<color rgba="0.98039215686274505668 0.71372549019607844922 0.0039215686274509803377 1.0"/>
</material>
</visual>
<collision>
<origin xyz="0.26257655689717357417 -0.017005636536309130108 0.57325938316463653788" rpy="2.9669440555254142922 0.34900978832855933387 1.5704580959175062915" />
<geometry>
<mesh filename="package://quadruped_description/quadruped/40001_8_1.stl"/>
</geometry>
</collision>
<visual>
<origin xyz="0.1111653805803881484 -0.1305135414303748298 0.54791058231780342958" rpy="-0.3540148965055689434 -0.16390885824145529082 0.060234426101678575916" />
<geometry>
<mesh filename="package://quadruped_description/quadruped/0003_27_1.stl"/>
</geometry>
<material name="0003_27_1_material">
<color rgba="0.49803921568627451677 0.49803921568627451677 0.49803921568627451677 1.0"/>
</material>
</visual>
<collision>
<origin xyz="0.1111653805803881484 -0.1305135414303748298 0.54791058231780342958" rpy="-0.3540148965055689434 -0.16390885824145529082 0.060234426101678575916" />
<geometry>
<mesh filename="package://quadruped_description/quadruped/0003_27_1.stl"/>
</geometry>
</collision>
<visual>
<origin xyz="0.10948390714754491215 -0.55951633092326502616 0.71420294409956019965" rpy="0.3540148965055689434 0.16390885824145529082 -3.0813582274881148315" />
<geometry>
<mesh filename="package://quadruped_description/quadruped/brep_1-2332_7_1.stl"/>
</geometry>
<material name="brep_1-2332_7_1_material">
<color rgba="0.98039215686274505668 0.71372549019607844922 0.0039215686274509803377 1.0"/>
</material>
</visual>
<collision>
<origin xyz="0.10948390714754491215 -0.55951633092326502616 0.71420294409956019965" rpy="0.3540148965055689434 0.16390885824145529082 -3.0813582274881148315" />
<geometry>
<mesh filename="package://quadruped_description/quadruped/brep_1-2332_7_1.stl"/>
</geometry>
</collision>
<visual>
<origin xyz="0.1465449555868801601 -0.29955220959471812181 0.39591097324621232767" rpy="-1.9248112233004655014 -0.16390885824145529082 0.060234426101678575916" />
<geometry>
<mesh filename="package://quadruped_description/quadruped/brep_1-2333_15_1.stl"/>
</geometry>
<material name="brep_1-2333_15_1_material">
<color rgba="0.49803921568627451677 0.49803921568627451677 0.49803921568627451677 1.0"/>
</material>
</visual>
<collision>
<origin xyz="0.1465449555868801601 -0.29955220959471812181 0.39591097324621232767" rpy="-1.9248112233004655014 -0.16390885824145529082 0.060234426101678575916" />
<geometry>
<mesh filename="package://quadruped_description/quadruped/brep_1-2333_15_1.stl"/>
</geometry>
</collision>
<visual>
<origin xyz="-0.0038186543980699705347 0.063842727869835552701 1.1711283187170997699" rpy="-0.3540148965055689434 -0.16390885824145529082 0.060234426101678575916" />
<geometry>
<mesh filename="package://quadruped_description/quadruped/manifold_solid_brep_59609_a_7_1.stl"/>
</geometry>
<material name="manifold_solid_brep_59609_a_7_1_material">
<color rgba="0.4000000000000000222 0.4000000000000000222 0 1.0"/>
</material>
</visual>
<collision>
<origin xyz="-0.0038186543980699705347 0.063842727869835552701 1.1711283187170997699" rpy="-0.3540148965055689434 -0.16390885824145529082 0.060234426101678575916" />
<geometry>
<mesh filename="package://quadruped_description/quadruped/manifold_solid_brep_59609_a_7_1.stl"/>
</geometry>
</collision>
<visual>
<origin xyz="-0.0038186543980699705347 0.063842727869835552701 1.1711283187170997699" rpy="-0.3540148965055689434 -0.16390885824145529082 0.060234426101678575916" />
<geometry>
<mesh filename="package://quadruped_description/quadruped/manifold_solid_brep_61418_a_7_1.stl"/>
</geometry>
<material name="manifold_solid_brep_61418_a_7_1_material">
<color rgba="0.4000000000000000222 0.4000000000000000222 0 1.0"/>
</material>
</visual>
<collision>
<origin xyz="-0.0038186543980699705347 0.063842727869835552701 1.1711283187170997699" rpy="-0.3540148965055689434 -0.16390885824145529082 0.060234426101678575916" />
<geometry>
<mesh filename="package://quadruped_description/quadruped/manifold_solid_brep_61418_a_7_1.stl"/>
</geometry>
</collision>
<visual>
<origin xyz="-0.0056959396954029406501 0.06994692061015930773 1.1802364642018852159" rpy="-0.3540148965055689434 -0.16390885824145529082 0.060234426101678575916" />
<geometry>
<mesh filename="package://quadruped_description/quadruped/brep_2-2325_7_1.stl"/>
</geometry>
<material name="brep_2-2325_7_1_material">
<color rgba="0.2313725490196078538 0.38039215686274507888 0.7058823529411765163 1.0"/>
</material>
</visual>
<collision>
<origin xyz="-0.0056959396954029406501 0.06994692061015930773 1.1802364642018852159" rpy="-0.3540148965055689434 -0.16390885824145529082 0.060234426101678575916" />
<geometry>
<mesh filename="package://quadruped_description/quadruped/brep_2-2325_7_1.stl"/>
</geometry>
</collision>
<visual>
<origin xyz="0.12748686884735122016 0.033697614825317953602 0.48156364732398748707" rpy="-2.6964368240027494217 1.1821334150666029661 -1.0947897205739907101" />
<geometry>
<mesh filename="package://quadruped_description/quadruped/sensor_d16x7_1_1_2_a_7_1.stl"/>
</geometry>
<material name="sensor_d16x7_1_1_2_a_7_1_material">
<color rgba="0 0.5999999999999999778 0 1.0"/>
</material>
</visual>
<collision>
<origin xyz="0.12748686884735122016 0.033697614825317953602 0.48156364732398748707" rpy="-2.6964368240027494217 1.1821334150666029661 -1.0947897205739907101" />
<geometry>
<mesh filename="package://quadruped_description/quadruped/sensor_d16x7_1_1_2_a_7_1.stl"/>
</geometry>
</collision>
<visual>
<origin xyz="0.097942636119111914361 0.031915879578586651977 0.47666836996614675437" rpy="-2.6964368240027494217 1.1821334150666029661 -1.0947897205739907101" />
<geometry>
<mesh filename="package://quadruped_description/quadruped/sensor_d16x7_1_1_2_a_7_1.stl"/>
</geometry>
<material name="sensor_d16x7_1_1_2_a_7_1_material">
<color rgba="0 0.5999999999999999778 0 1.0"/>
</material>
</visual>
<collision>
<origin xyz="0.097942636119111914361 0.031915879578586651977 0.47666836996614675437" rpy="-2.6964368240027494217 1.1821334150666029661 -1.0947897205739907101" />
<geometry>
<mesh filename="package://quadruped_description/quadruped/sensor_d16x7_1_1_2_a_7_1.stl"/>
</geometry>
</collision>
<visual>
<origin xyz="-0.0038186543980699705347 0.063842727869835552701 1.1711283187170997699" rpy="-0.3540148965055689434 -0.16390885824145529082 0.060234426101678575916" />
<geometry>
<mesh filename="package://quadruped_description/quadruped/manifold_solid_brep_59609_a_7_1.stl"/>
</geometry>
<material name="manifold_solid_brep_59609_a_7_1_material">
<color rgba="0.4000000000000000222 0.4000000000000000222 0 1.0"/>
</material>
</visual>
<collision>
<origin xyz="-0.0038186543980699705347 0.063842727869835552701 1.1711283187170997699" rpy="-0.3540148965055689434 -0.16390885824145529082 0.060234426101678575916" />
<geometry>
<mesh filename="package://quadruped_description/quadruped/manifold_solid_brep_59609_a_7_1.stl"/>
</geometry>
</collision>
<visual>
<origin xyz="-0.0038186543980699705347 0.063842727869835552701 1.1711283187170997699" rpy="-0.3540148965055689434 -0.16390885824145529082 0.060234426101678575916" />
<geometry>
<mesh filename="package://quadruped_description/quadruped/manifold_solid_brep_61418_a_7_1.stl"/>
</geometry>
<material name="manifold_solid_brep_61418_a_7_1_material">
<color rgba="0.4000000000000000222 0.4000000000000000222 0 1.0"/>
</material>
</visual>
<collision>
<origin xyz="-0.0038186543980699705347 0.063842727869835552701 1.1711283187170997699" rpy="-0.3540148965055689434 -0.16390885824145529082 0.060234426101678575916" />
<geometry>
<mesh filename="package://quadruped_description/quadruped/manifold_solid_brep_61418_a_7_1.stl"/>
</geometry>
</collision>
<inertial>
<origin xyz="0 0 0" rpy="0 0 0"/>
<mass value="0" />
<inertia ixx="0" ixy="0"  ixz="0" iyy="0" iyz="0" izz="0" />
</inertial>
</link>


</robot>
